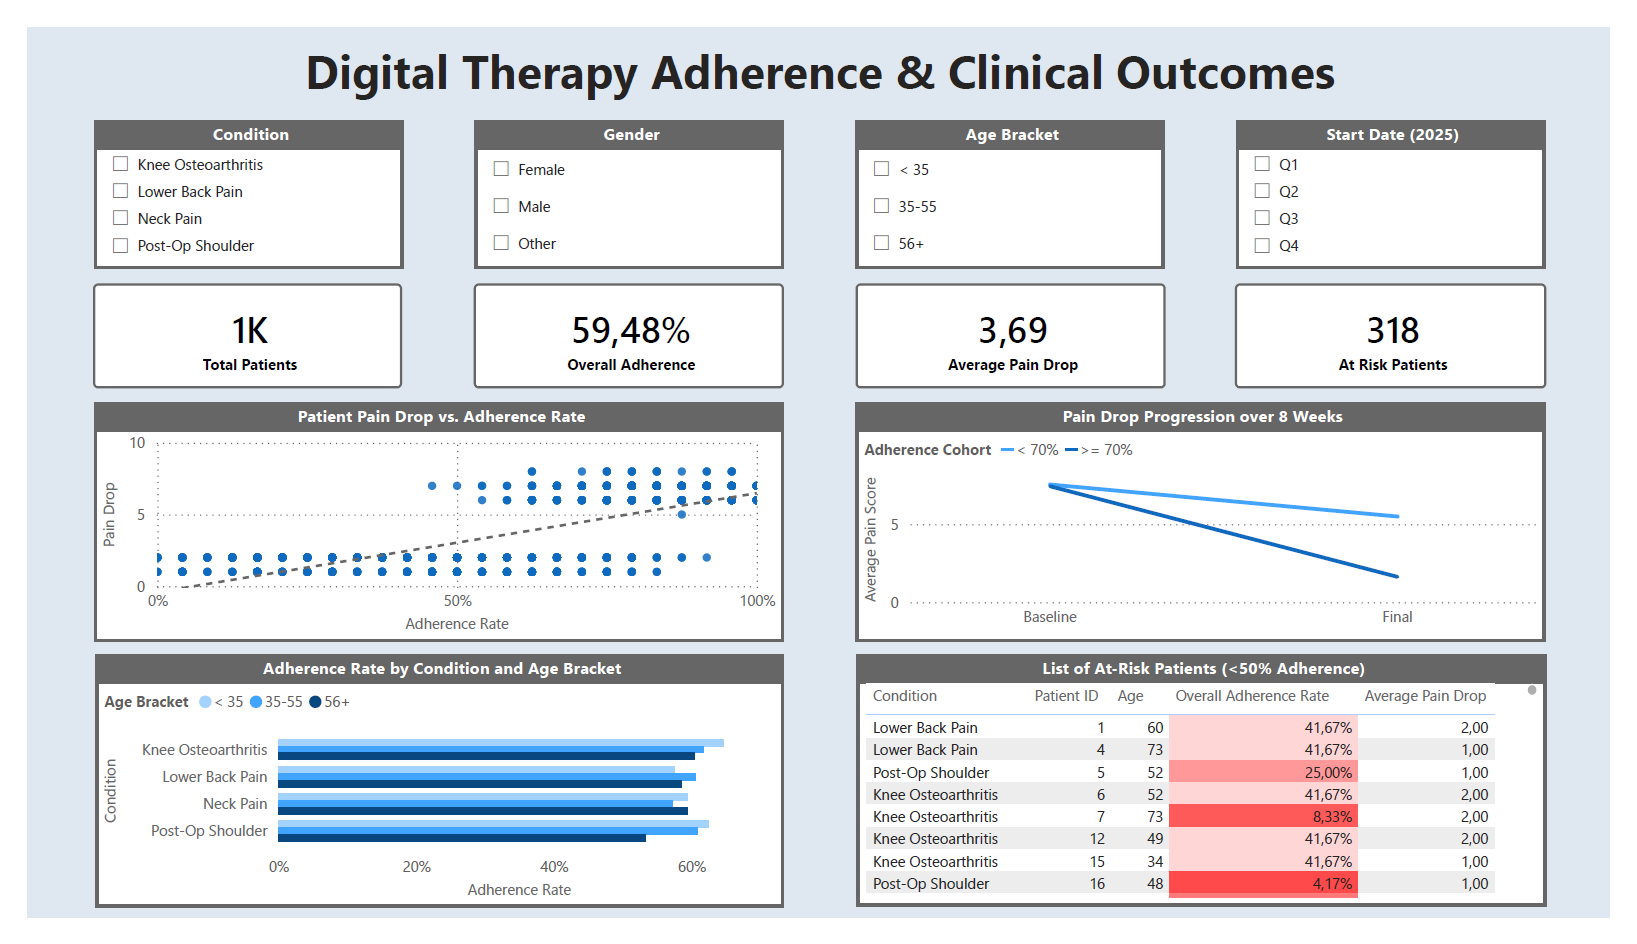

The page's visual inventory and layout, read from the dashboard file:
{"tool":"powerbi","page":{"name":"Page 1","canvas":[1280,720],"ordinal":0},"visuals":[{"type":"slicer","title":"Condition","fields":{"Values":["patients.condition"]},"box":[54,75,250,120],"z":0},{"type":"slicer","title":"Gender","fields":{"Values":["patients.gender_display"]},"box":[362,75,250,120],"z":1000},{"type":"slicer","title":"Age Bracket","fields":{"Values":["patients.Age Bracket"]},"box":[670,75,250,120],"z":2000},{"type":"slicer","title":"Start Date (2025)","fields":{"Values":["treatment_plans.start_quarter"]},"box":[978,75,250,120],"z":3000},{"type":"cardVisual","fields":{"Data":["_Measures.Total Patients"]},"box":[36.4,189.8,284.8,119.9],"z":4000},{"type":"cardVisual","fields":{"Data":["_Measures.At Risk Patients"]},"box":[959.7,189.8,286.7,119.9],"z":5000},{"type":"cardVisual","fields":{"Data":["_Measures.Overall Adherence Rate (%)"]},"box":[344.2,189.8,285.7,119.9],"z":6000},{"type":"cardVisual","fields":{"Data":["_Measures.Avg Pain Drop"]},"box":[652.9,189.8,285.7,119.9],"z":7000},{"type":"scatterChart","title":"Patient Pain Drop vs. Adherence Rate","fields":{"X":["_Measures.Overall Adherence Rate (%)"],"Y":["_Measures.Avg Pain Drop"],"Category":["patients.patient_id"]},"box":[54,303,558,194],"z":8000},{"type":"lineChart","title":"Pain Drop Progression over 8 Weeks","fields":{"Category":["clinical_assessments.assessment_type"],"Series":["patients.Adherence Cohort"],"Y":["Avg(clinical_assessments.pain_score)"]},"box":[670,303,558,194],"z":9000},{"type":"clusteredBarChart","title":"Adherence Rate by Condition and Age Bracket","fields":{"Category":["patients.condition"],"Y":["_Measures.Overall Adherence Rate (%)"],"Series":["patients.Age Bracket"]},"box":[55,507,557.1,205.2],"z":10000},{"type":"tableEx","title":"List of At-Risk Patients (<50% Adherence)","fields":{"Values":["patients.condition","patients.patient_id","patients.age","_Measures.Overall Adherence Rate (%)","_Measures.Avg Pain Drop"]},"box":[670.6,507,558,204.2],"z":11000},{"type":"textbox","box":[54,5,1174,66],"z":12000}]}

Visuals, with their boxes in screenshot pixels (x1, y1, x2, y2), scaled from the page's 1280x720 canvas onto the 1637x944 screenshot:
"Condition" slicer: 69/98/389/256
"Gender" slicer: 463/98/783/256
"Age Bracket" slicer: 857/98/1177/256
"Start Date (2025)" slicer: 1251/98/1570/256
cardVisual - _Measures.Total Patients: 47/249/411/406
cardVisual - _Measures.At Risk Patients: 1227/249/1594/406
cardVisual - _Measures.Overall Adherence Rate (%): 440/249/806/406
cardVisual - _Measures.Avg Pain Drop: 835/249/1200/406
"Patient Pain Drop vs. Adherence Rate" scatterChart: 69/397/783/652
"Pain Drop Progression over 8 Weeks" lineChart: 857/397/1570/652
"Adherence Rate by Condition and Age Bracket" clusteredBarChart: 70/665/783/934
"List of At-Risk Patients (<50% Adherence)" tableEx: 858/665/1571/932
textbox: 69/7/1570/93
